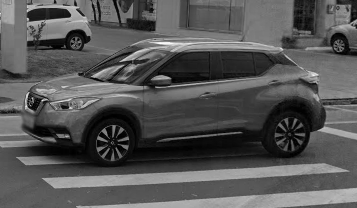car: (21, 34, 332, 172)
